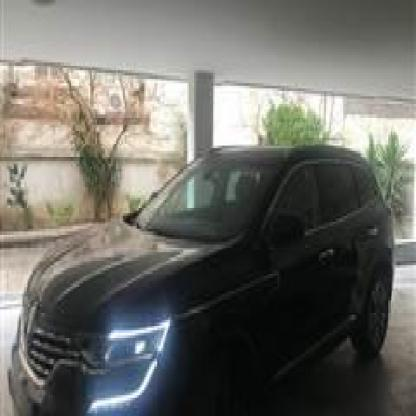Car: (4, 138, 398, 416)
